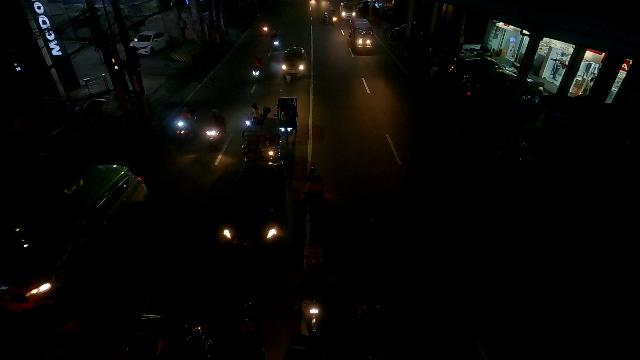car: (218, 161, 283, 257), (280, 46, 308, 79), (340, 1, 358, 21)
jeepney: (350, 17, 373, 50)
motorcycle: (204, 109, 227, 151), (172, 112, 195, 146), (251, 58, 263, 79)
